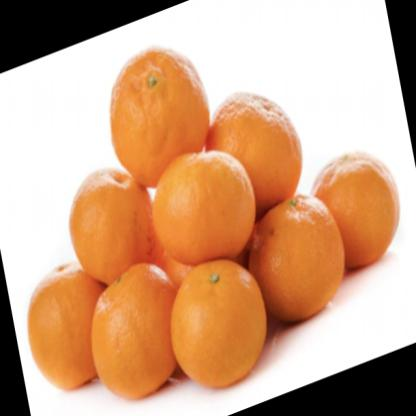orange: (95, 35, 209, 180), (163, 247, 273, 393), (250, 186, 352, 319), (50, 163, 154, 280), (90, 264, 181, 395), (21, 244, 102, 390), (211, 84, 307, 204), (157, 147, 254, 263), (315, 141, 400, 269)
